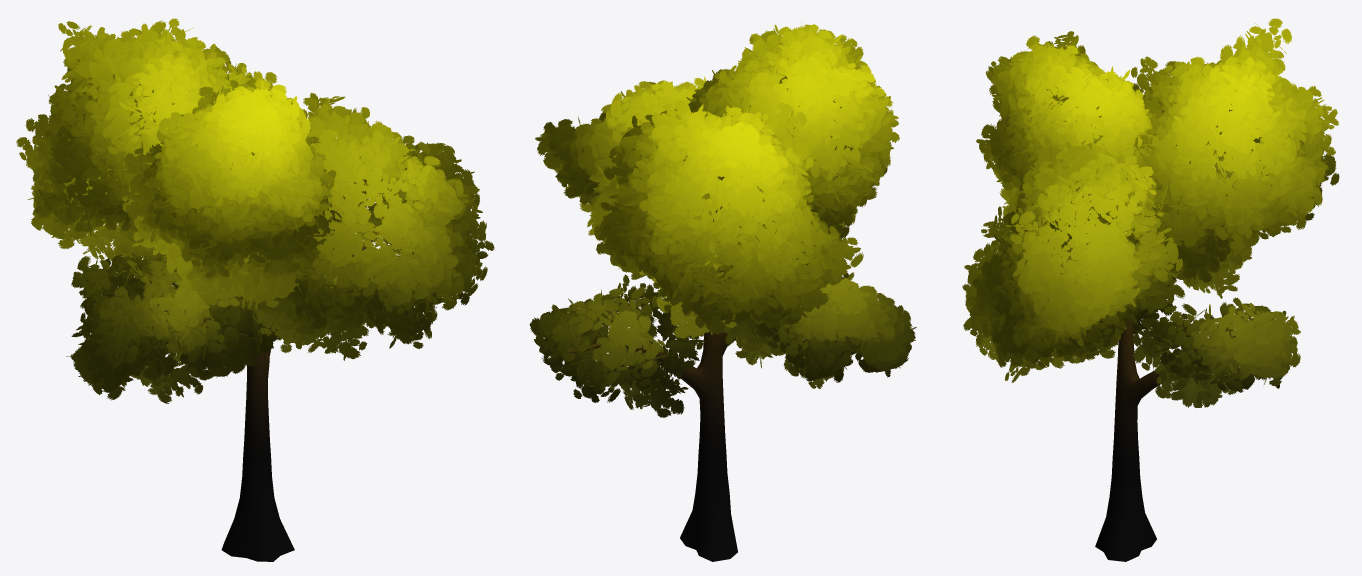
Rendered from SM_Tree_Large_02.fbx.
3 views of the same model, side by side, from view 1: azimuth 30°, elevation 25°; view 2: azimuth 150°, elevation 25°; view 3: azimuth 270°, elevation 25° (orthographic). The views are drawn at different scales.
Parts seen in each view (by area): view 1: SM_Tree_Large_02_LOD0; view 2: SM_Tree_Large_02_LOD0; view 3: SM_Tree_Large_02_LOD0.
Boxes of the visible parts, box(x1,y1,x2,y2) form: SM_Tree_Large_02_LOD0: box(16, 18, 494, 561); SM_Tree_Large_02_LOD0: box(529, 21, 916, 561); SM_Tree_Large_02_LOD0: box(962, 18, 1339, 561).
Bounding box in the file's own units: 1330 × 1625 × 1191.
